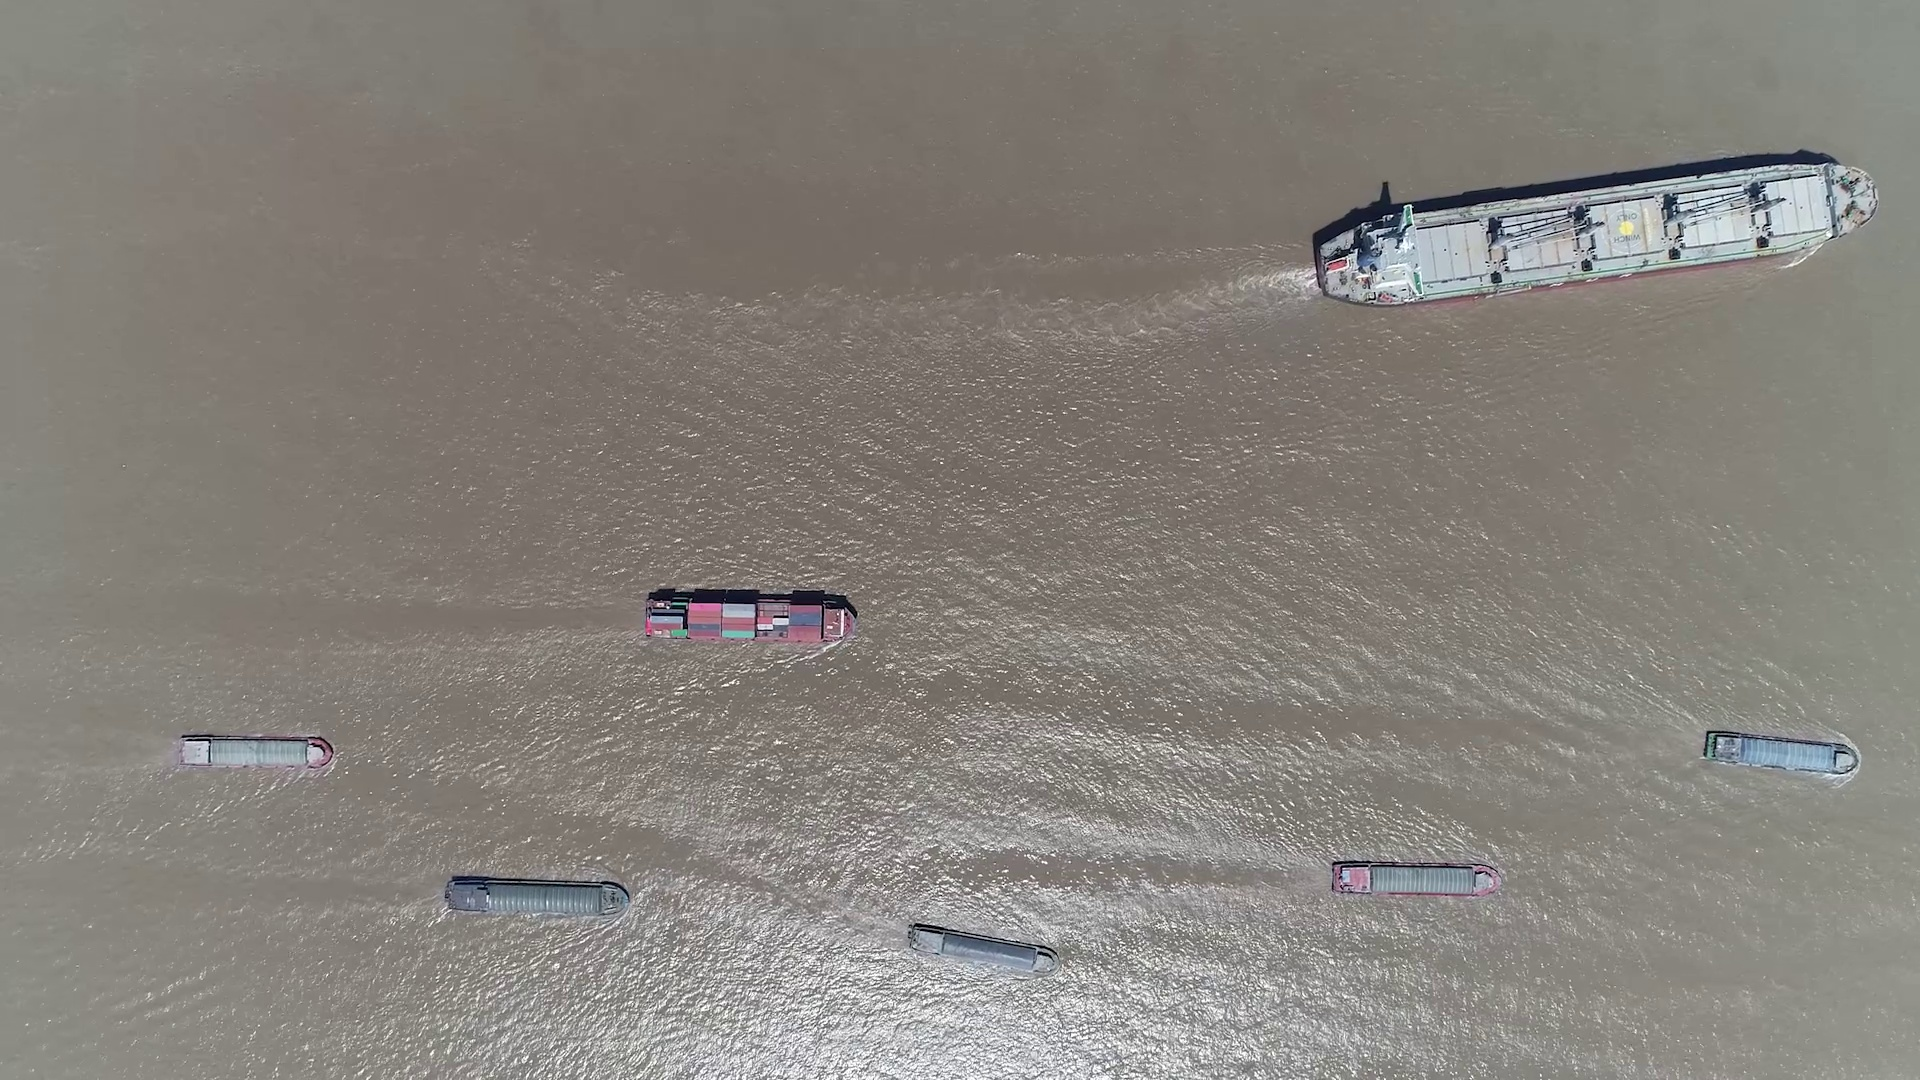ship: (1313, 161, 1879, 306), (644, 593, 856, 644), (443, 877, 629, 918), (907, 924, 1055, 975), (1704, 731, 1859, 775), (1332, 860, 1502, 898), (175, 735, 332, 769)
